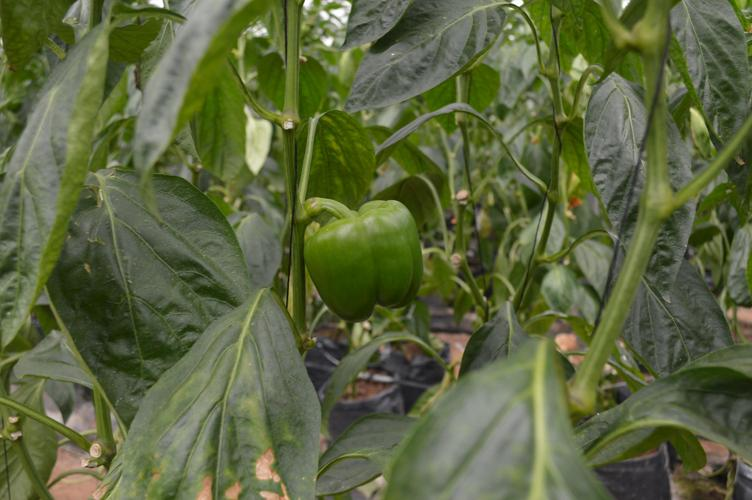BellPepper: (297, 199, 433, 315)
